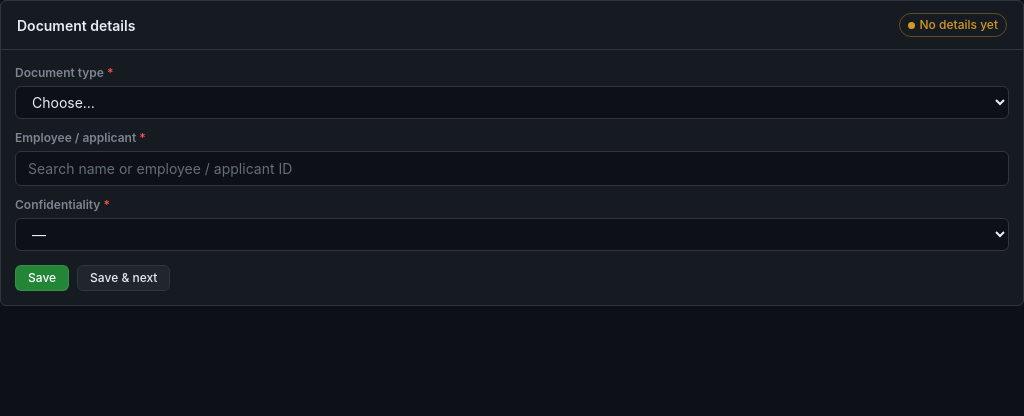
Test: choosing a type shows its fields; picking a person by keyboard; Ctrl+S saves the form
The width and height of the screenshot is (1024, 416).
Expected: the field labelled "Start date" is not shown
Select "Offer letters" in the dropdown labelled "Document type *" at (512, 102), box [15, 86, 1009, 119]
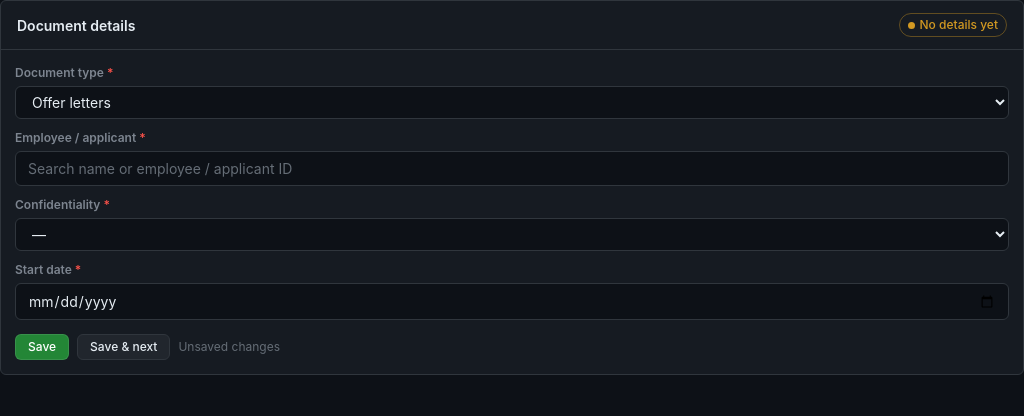
Expected: the date field labelled "Start date *" is shown, [15, 283, 1009, 320]
Type "smi" into the dropdown labelled "Employee / applicant *".
click(512, 168); type("smi")  # box [15, 151, 1009, 186]
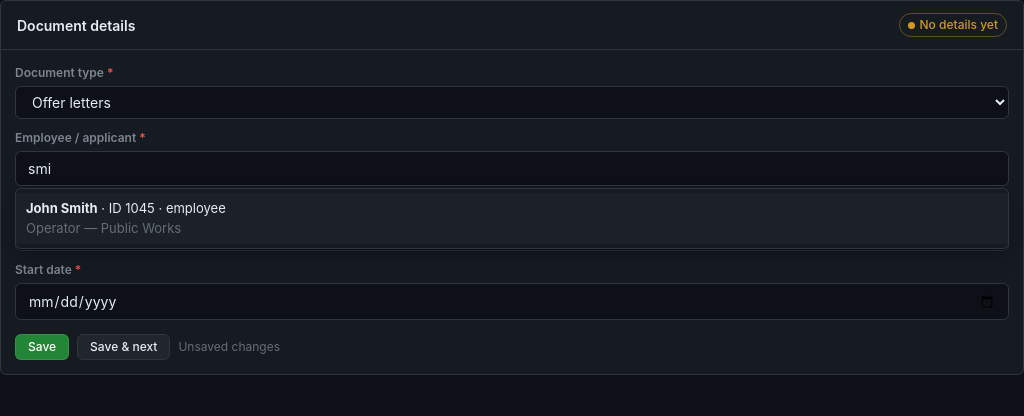
Expected: the option "John Smith · ID 1045 · employee Operator — Public Works" is shown, [16, 193, 1008, 244]
Press Enter in the dropdown labelled "Employee / applicant *", box [15, 151, 1009, 186]
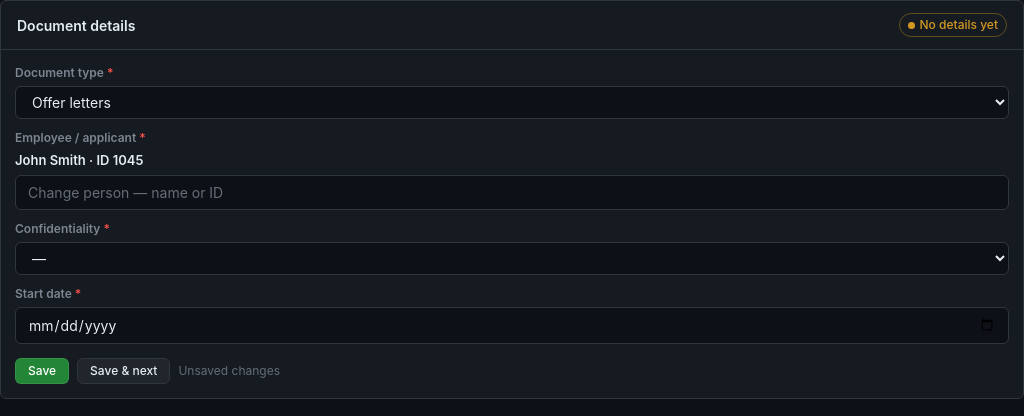
Expected: the text "John Smith · ID 1045" is shown, [15, 152, 143, 168]
Press s
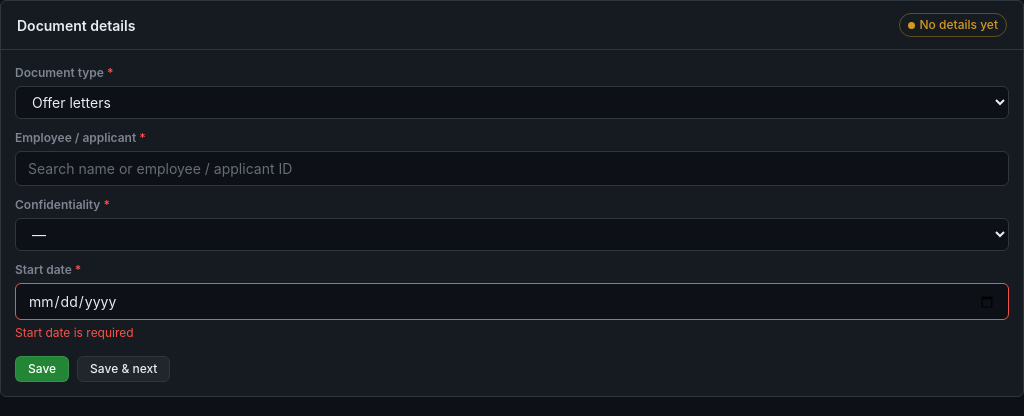
Expected: the text "Start date is required" is shown, [15, 325, 134, 340]
